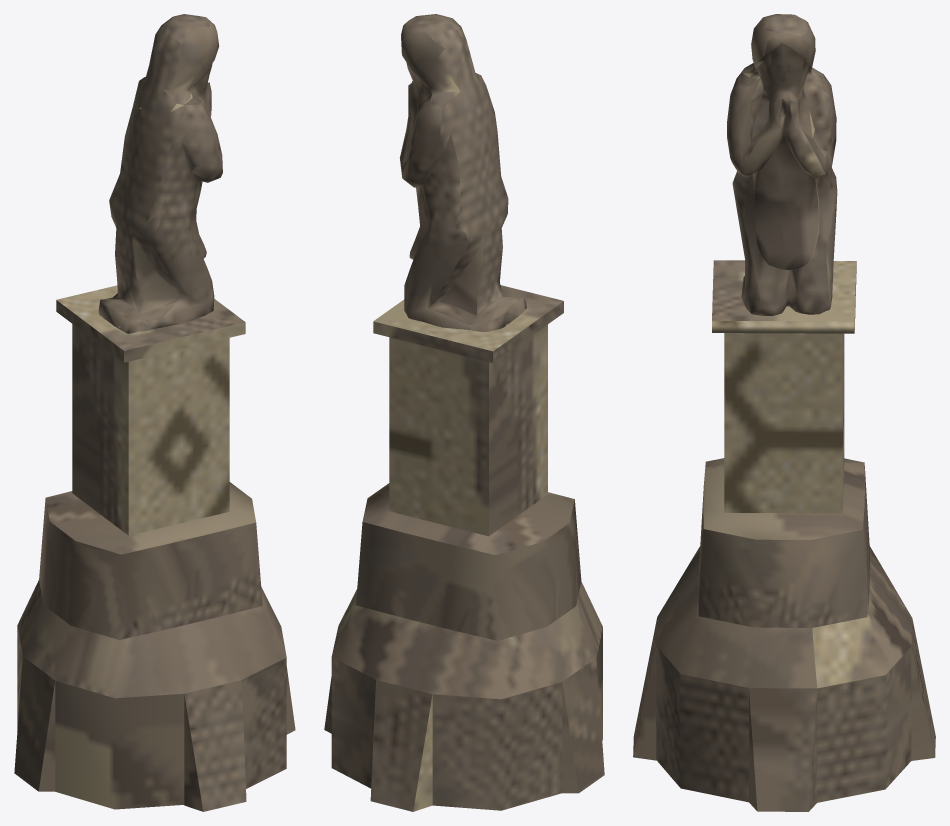
File: kolumna_low.fbx
3 views of the same model, side by side, from view 1: azimuth 30°, elevation 25°; view 2: azimuth 150°, elevation 25°; view 3: azimuth 270°, elevation 25° (orthographic). The views are drawn at different scales.
Parts seen in each view (by area): view 1: kolumna_low; view 2: kolumna_low; view 3: kolumna_low.
Boxes of the visible parts, x1,y1,x2,y2 form: kolumna_low: (14, 14, 295, 811); kolumna_low: (324, 14, 604, 811); kolumna_low: (633, 14, 935, 811).
Bounding box in the file's own units: 734 × 1984 × 730.
